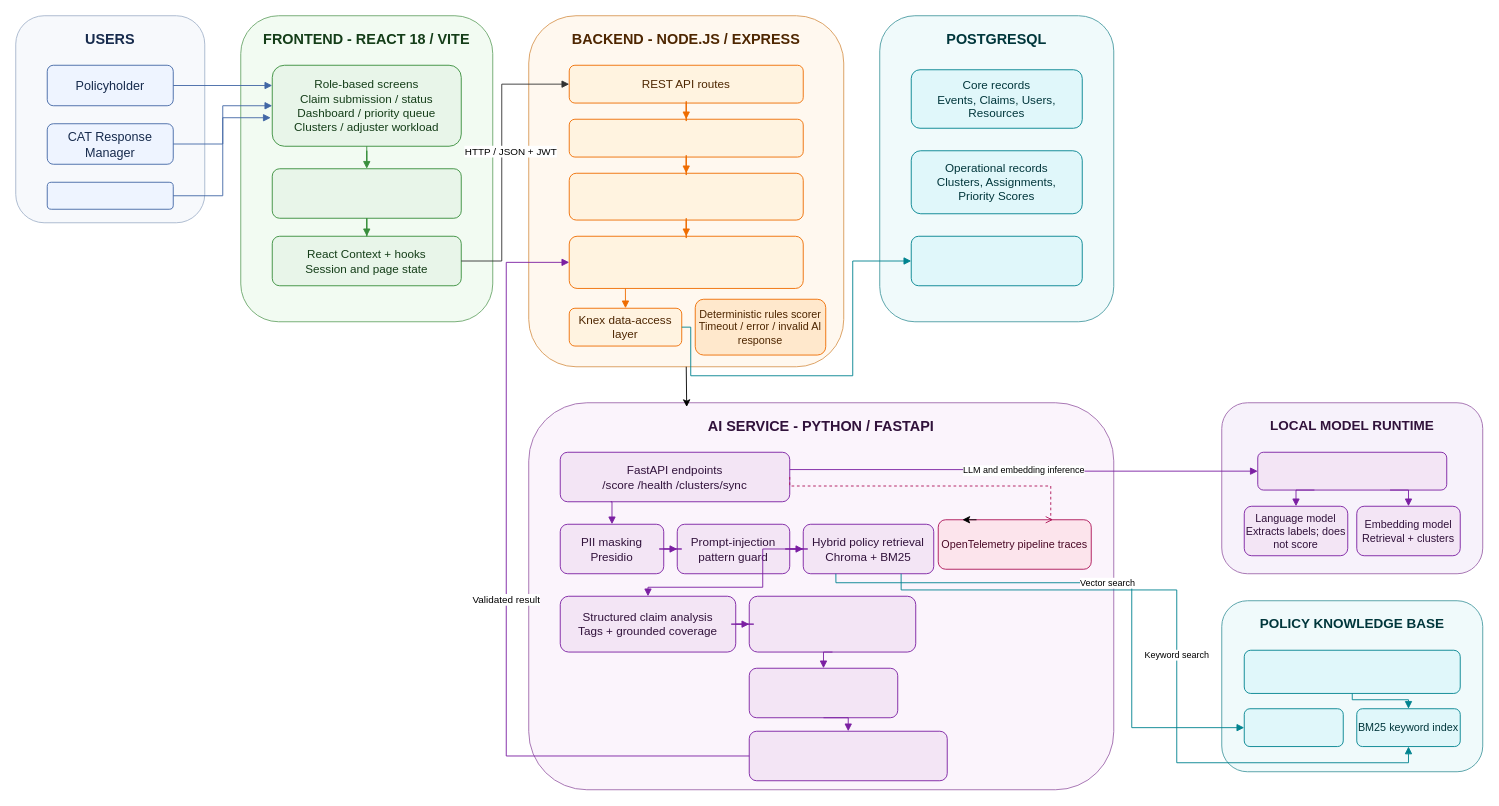
The diagram is 1499 pixels wide and 806 high, and some of its shapes have lost their labels. Each missing label, with the centre of its shape:
Adjuster: point 109,195
Chroma vector store: point 1293,727
Claim and triage services Intake, lifecycle, assignment: point 685,261
Claim timeline Activity log: point 996,260
Deterministic priority score Fixed weights + cap: point 832,623
Embedding-based cluster suggestion: point 823,692
JWT authentication Role checks: point 685,196
Ollama local runtime: point 1352,470
Policy wording, peril schedule, response SOP, evidence checklist: point 1351,671
Pydantic response validation Factors, citations, review flag: point 847,755
React Router Role-based navigation: point 366,193
Zod request validation: point 685,137
